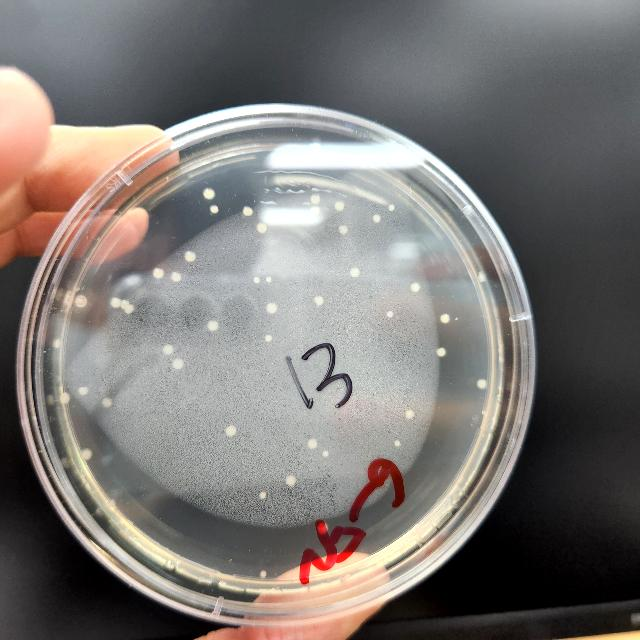colony: (203, 188, 215, 200), (172, 358, 184, 369), (186, 250, 197, 262), (81, 448, 92, 459), (257, 222, 267, 234), (110, 298, 122, 308), (308, 143, 322, 151), (226, 426, 237, 436), (60, 392, 70, 403), (101, 397, 112, 407), (286, 476, 296, 486), (266, 303, 276, 313), (208, 320, 218, 330), (314, 296, 324, 306), (350, 267, 360, 277), (410, 282, 420, 292), (334, 201, 344, 211), (310, 194, 320, 204), (440, 313, 450, 323), (477, 379, 487, 389), (79, 386, 89, 396), (163, 345, 173, 355), (154, 268, 164, 278), (171, 271, 181, 281), (478, 270, 486, 282), (310, 207, 320, 216), (436, 348, 446, 357), (125, 304, 134, 314), (308, 439, 316, 449), (338, 226, 348, 234), (107, 499, 115, 509), (120, 300, 130, 308), (406, 409, 414, 418), (244, 207, 252, 216), (210, 204, 218, 213), (55, 338, 61, 348), (374, 214, 381, 222), (264, 335, 272, 341), (387, 310, 393, 318), (388, 204, 394, 212), (260, 492, 266, 498), (261, 570, 267, 576), (266, 277, 272, 283), (253, 277, 259, 283), (324, 449, 328, 456), (396, 440, 400, 446), (456, 317, 458, 319)
